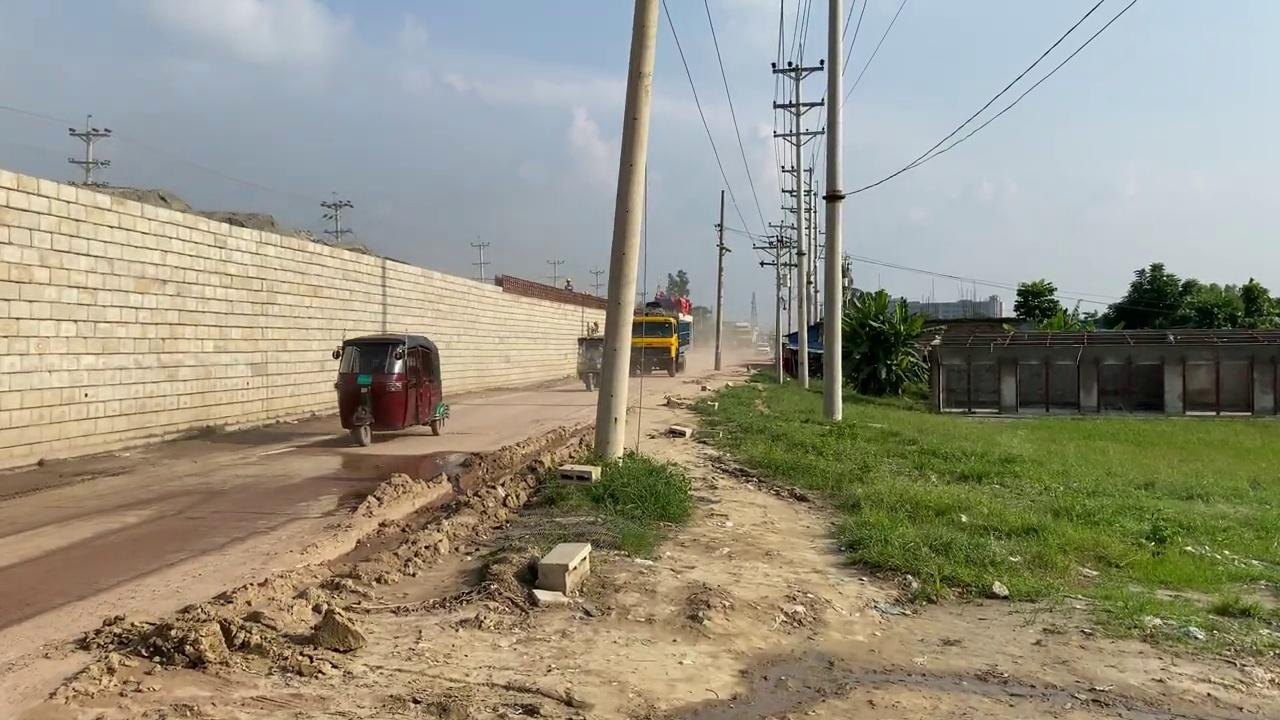Muddy road: (2, 353, 1277, 718)
Obstacle: (534, 541, 591, 596), (557, 463, 601, 484)
Pole: (593, 0, 659, 463), (821, 0, 844, 422), (713, 189, 726, 370)
Traffic-sign: (838, 286, 932, 397), (1012, 277, 1060, 328)
Tree: (331, 331, 448, 446), (575, 297, 691, 391), (645, 295, 693, 350), (575, 335, 604, 391)
Upstairs: (0, 187, 612, 489)
